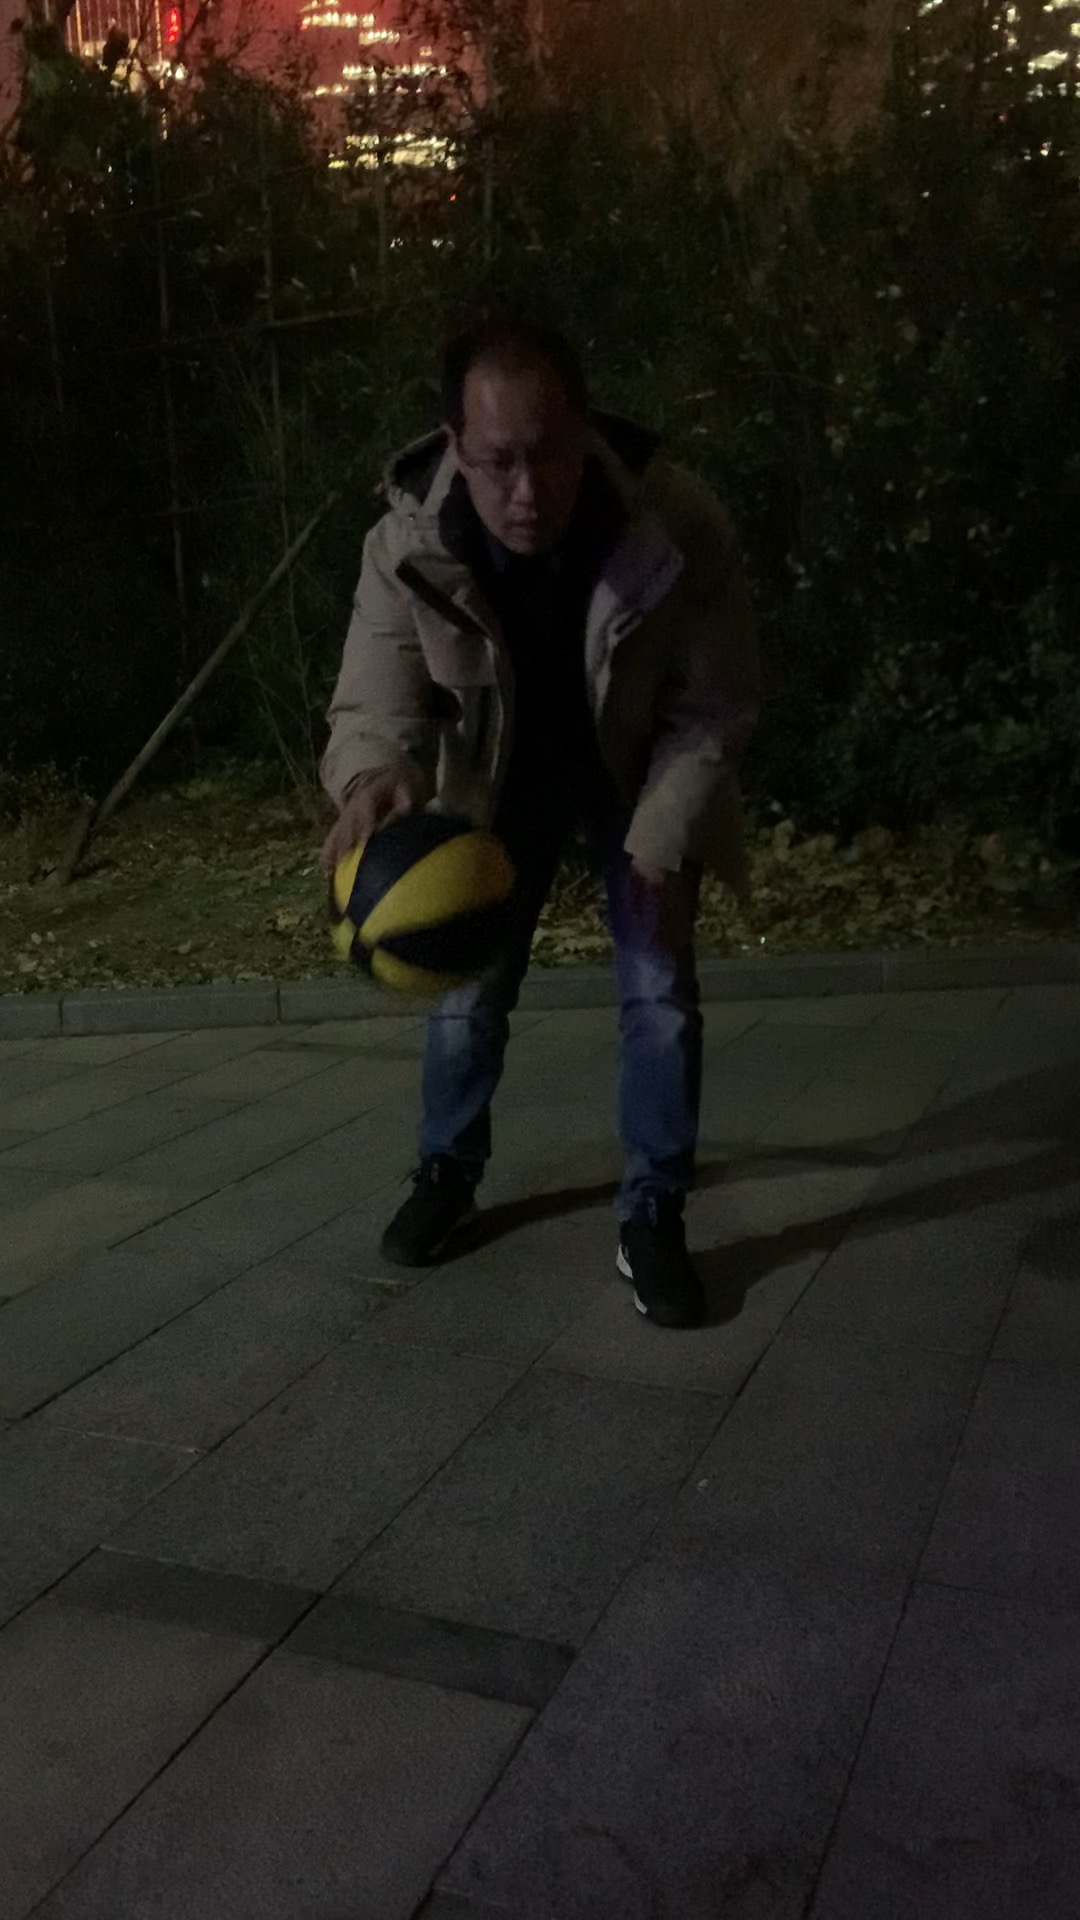ball: (320, 798, 527, 996)
